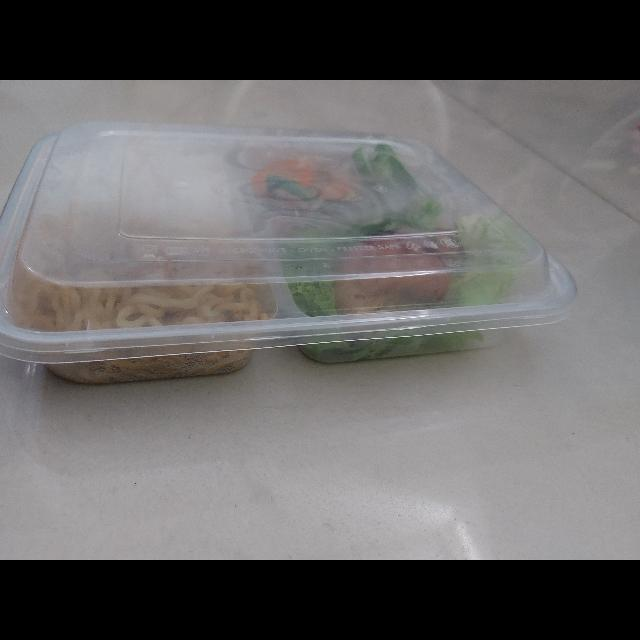bento: (0, 125, 590, 393)
